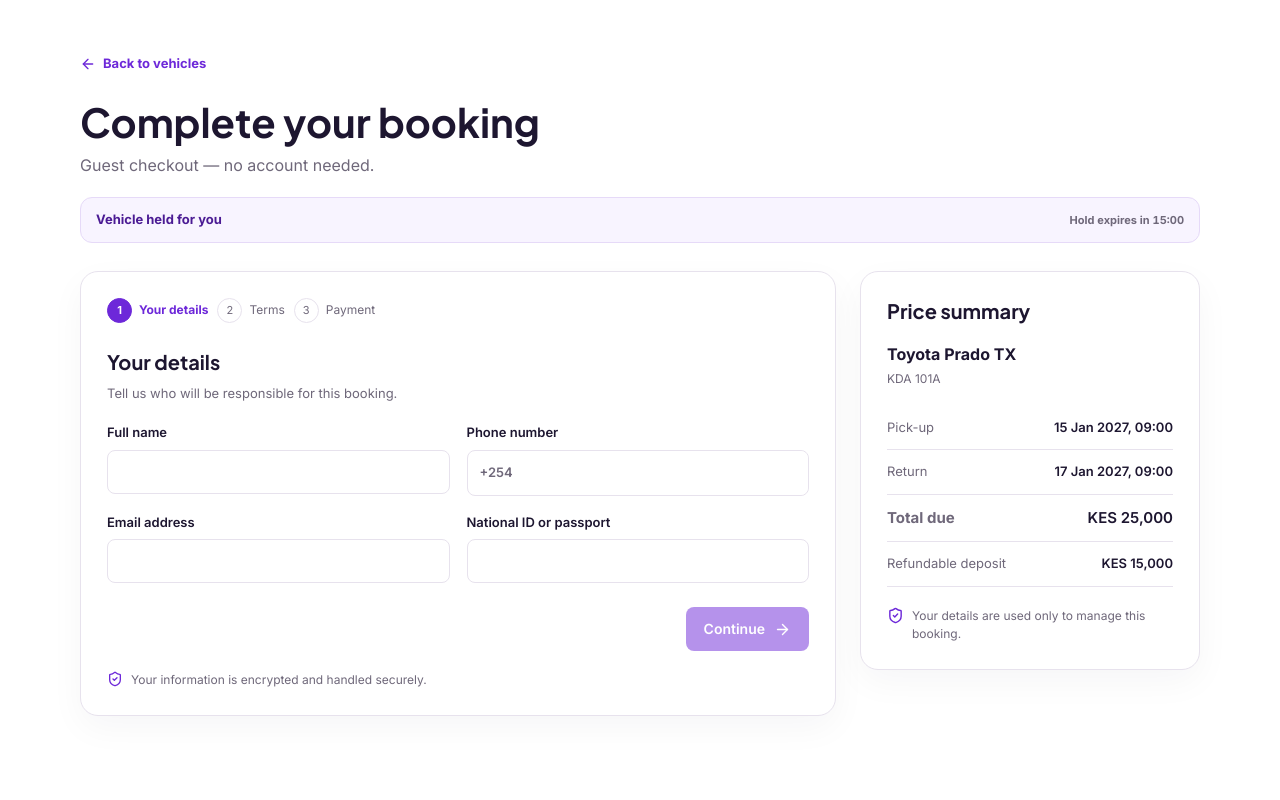
Test: guest checkout › skips the driving licence step for chauffeur bookings and requires both acceptances
Type "Amina Njeri" into the field labelled "Full name" at [278, 472], box [107,450,450,494]
Type "212345678" into the field labelled "Phone number +254" at [664, 473], box [521,451,808,495]
Type "amina@example.ke" into the field labelled "Email address" at [278, 561], box [107,539,450,583]
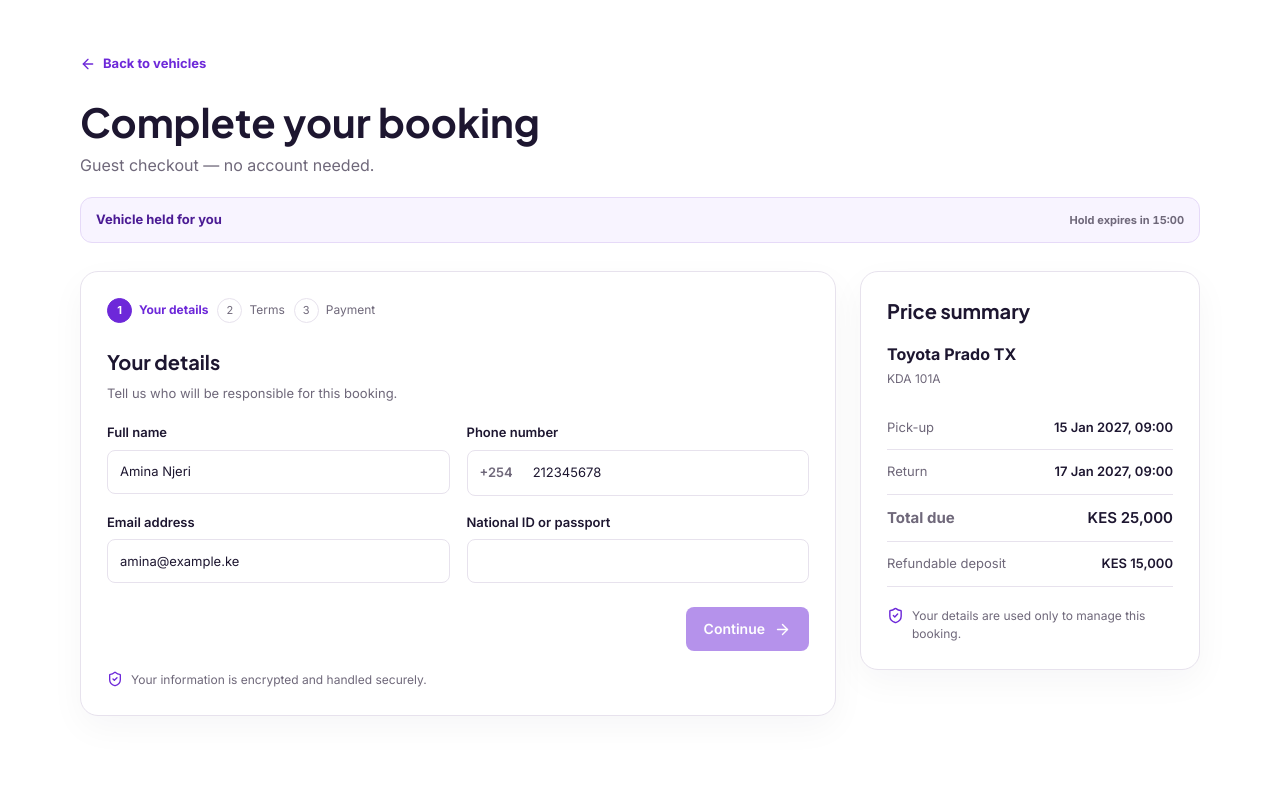
Type "12345678" into the field labelled "National ID or passport" at [638, 561], box [466,539,809,583]
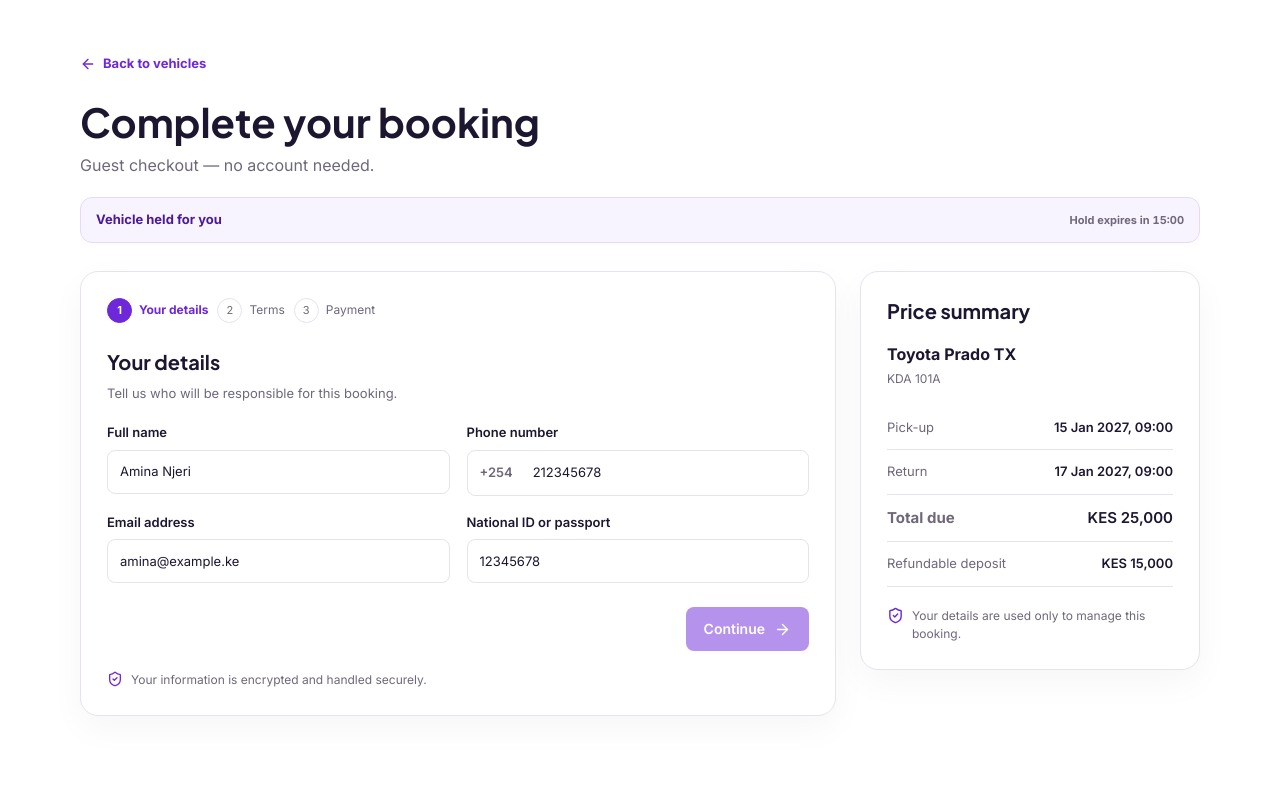
Expected: the button "Continue" is disabled, [686,607,809,651]
Replace the text in the field labelled "Phone number +254" with "712345678" at [664, 473], box [521,451,808,495]
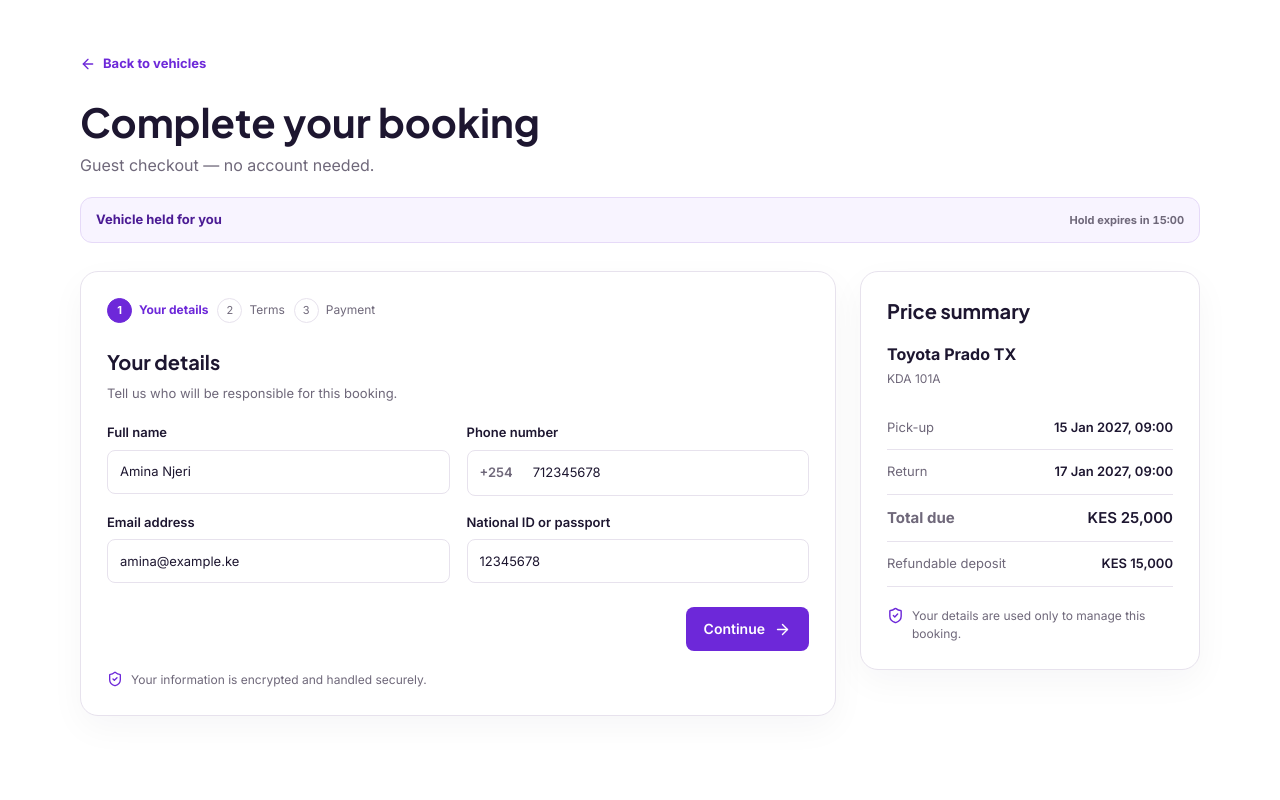
Click the button "Continue" at [747, 629], box [686,607,809,651]
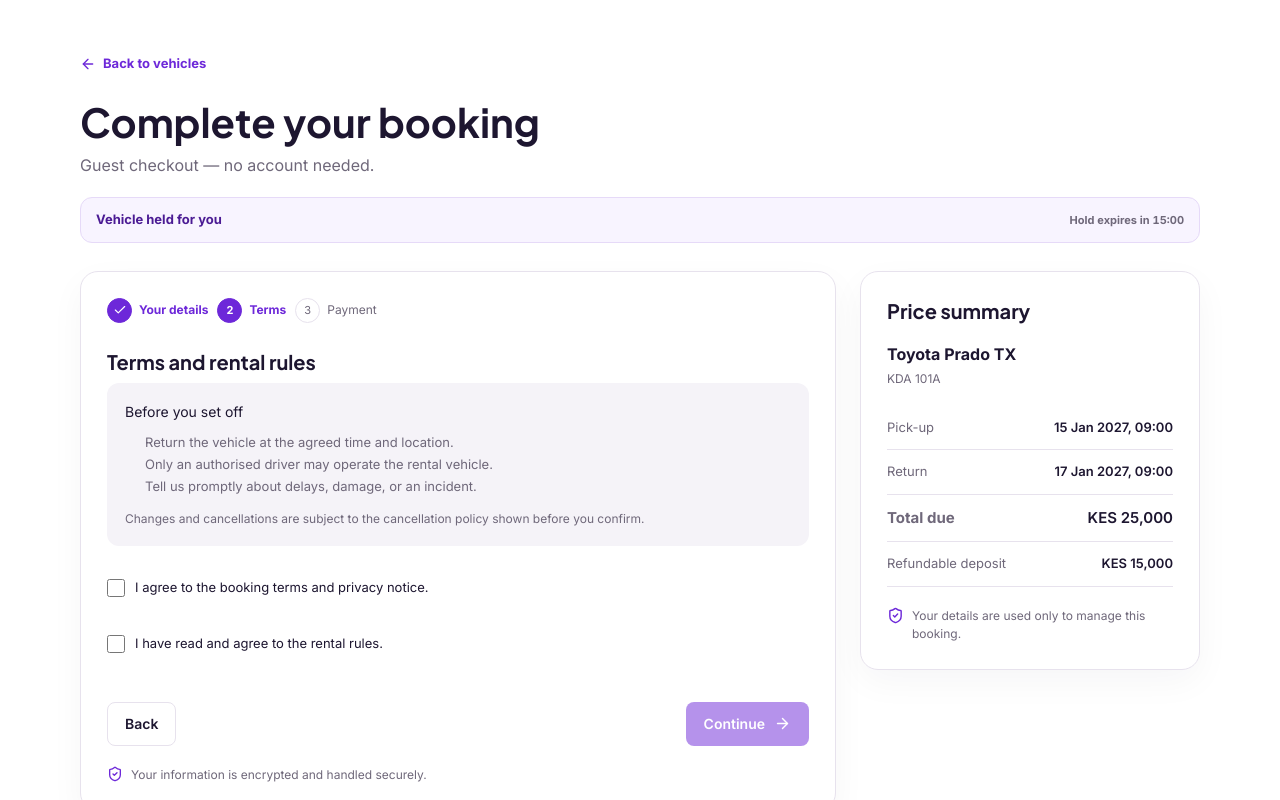
Expected: the heading "Terms and rental rules" is shown, [107,348,316,374]
Expected: the button "Continue" is disabled, [686,702,809,746]
Click the checkbox labelled "I agree to the booking terms and privacy notice." at [116, 588], box [107,579,125,597]
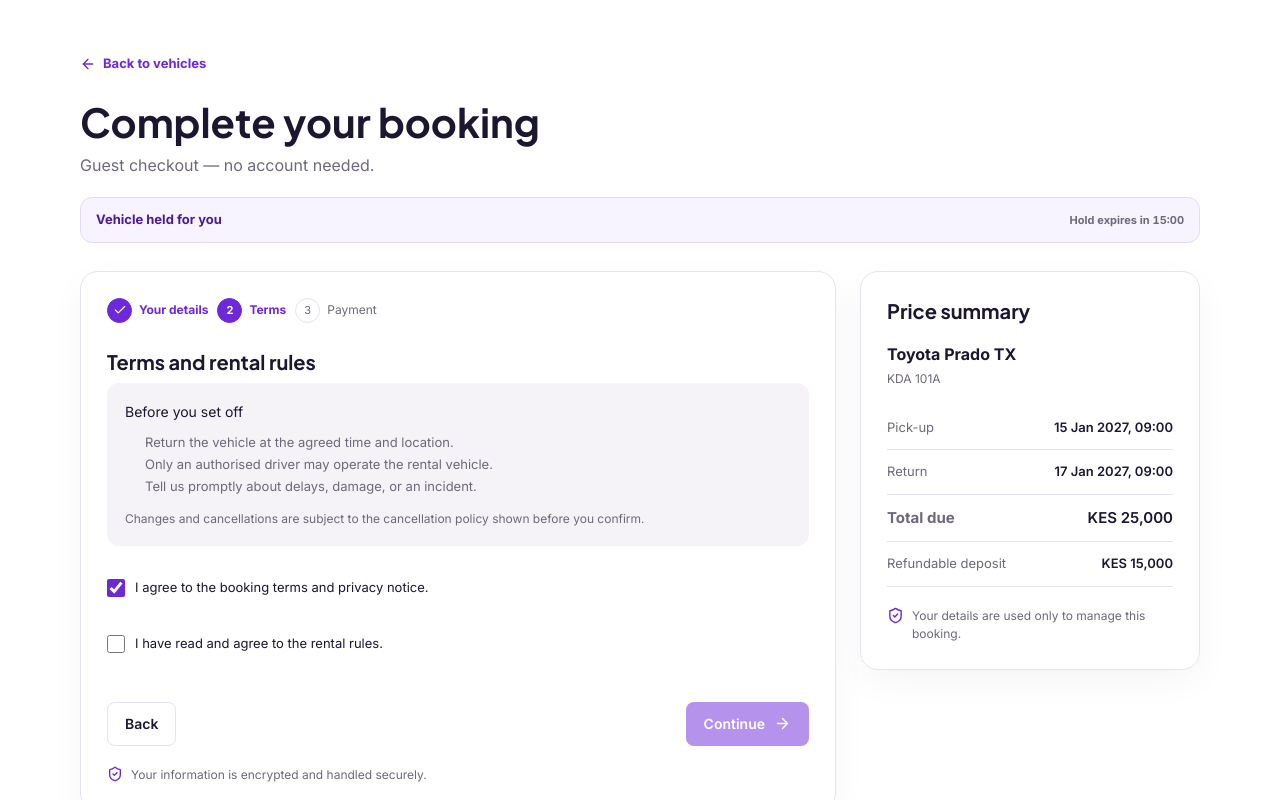
Expected: the button "Continue" is disabled, [686,702,809,746]
Click the checkbox labelled "I have read and agree to the rental rules." at [116, 644], box [107,635,125,653]
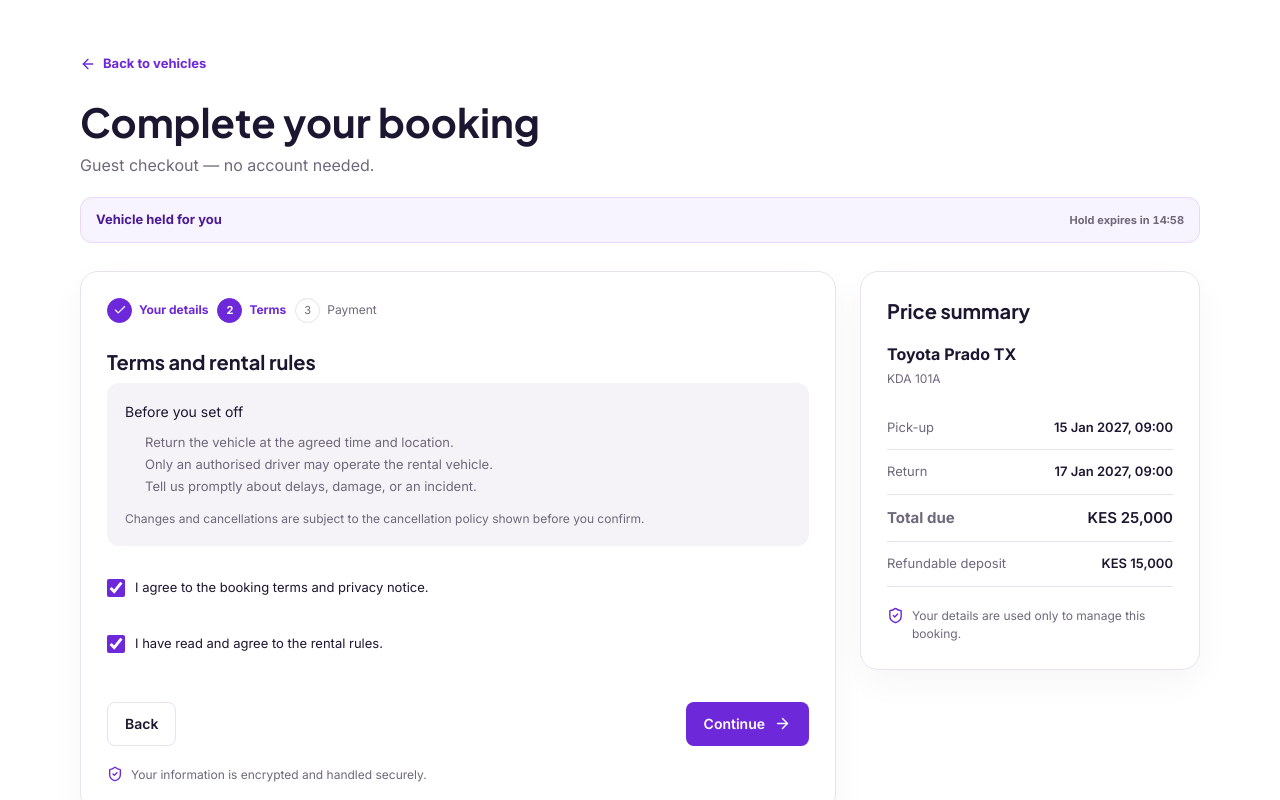
Expected: the button "Continue" is enabled, [686,702,809,746]
